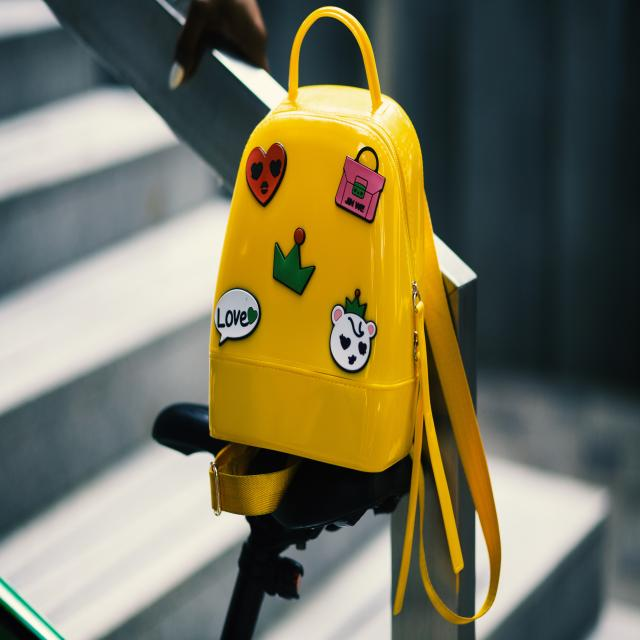backpack: (213, 9, 502, 623)
